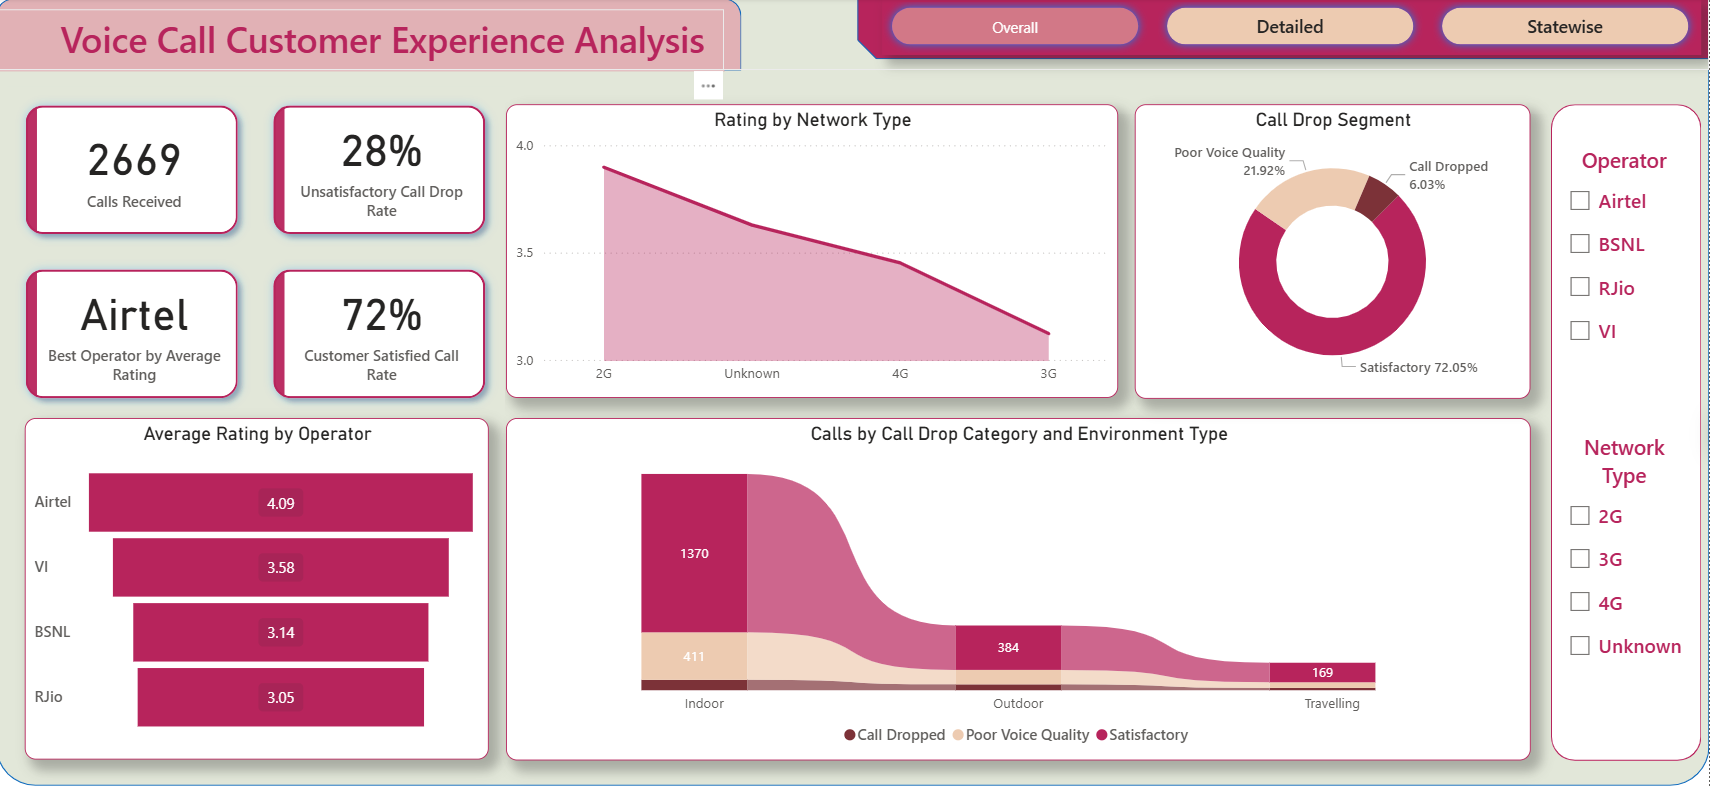

What the dashboard file says about the page in this screenshot:
{"tool":"powerbi","page":{"name":"Overall","canvas":[1550,720],"ordinal":0},"visuals":[{"type":"shape","box":[5,0,1545,710.3],"z":0,"group":"g1"},{"type":"group","id":"g1","title":"Group 3","box":[5,0,1545,710.3],"z":1000},{"type":"lineChart","title":"Rating by Network Type","fields":{"Y":["Final.Average Rating"],"Category":["Final.network_type"]},"box":[464.7,95.7,552,264.7],"z":1000,"group":"g1"},{"type":"cardVisual","fields":{"Data":["Final.NumberOfCalls","Final.Call drop percent","Final.BestOperator_AverageRating","Final.SatisfactoryCalls"]},"box":[15.5,80.3,449.2,298.5],"z":2000,"group":"g1"},{"type":"group","id":"g2","title":"Group 2","box":[1406.9,95.8,135.6,592.1],"z":2000},{"type":"shape","box":[4.5,0,672.2,65.4],"z":2250,"group":"g4"},{"type":"group","id":"g3","title":"Group 1","box":[4.5,0,1545.3,65.4],"z":2500,"group":"g4"},{"type":"group","id":"g4","title":"Group 4","box":[4.5,0,1545.3,65.4],"z":2501},{"type":"textbox","box":[4.5,9.7,657.1,55.6],"z":2501,"group":"g3"},{"type":"shape","box":[780.8,0,769,55.3],"z":3000,"group":"g3"},{"type":"shape","box":[1406.9,95.8,135.6,592.1],"z":3000,"group":"g2"},{"type":"slicer","title":"Operator","fields":{"Values":["Final.operator"]},"box":[1412,132.7,122.9,193.3],"z":4000,"group":"g2"},{"type":"slicer","title":"Network Type","fields":{"Values":["Final.network_type"]},"box":[1412,392.3,122.9,244.1],"z":5000,"group":"g2"},{"type":"funnel","title":"Average Rating by Operator","fields":{"Category":["Final.operator"],"Y":["Final.Average Rating"]},"box":[31,378.8,418.2,308.4],"z":6000,"group":"g1"},{"type":"ribbonChart","title":"Calls by Call Drop Category and Environment Type","fields":{"Category":["Final.inout_travelling"],"Series":["Final.calldrop_category"],"Y":["CountNonNull(Final.Case)"]},"box":[464.9,378.8,924.3,309],"z":7000,"group":"g1"},{"type":"donutChart","title":"Call Drop Segment","fields":{"Y":["CountNonNull(Final.calldrop_category)"],"Category":["Final.calldrop_category"]},"box":[1032.4,95.7,356.9,265.3],"z":8000,"group":"g1"},{"type":"pageNavigator","box":[803.1,0,738.3,51.1],"z":8001,"group":"g3"}]}

Visuals, with their boxes in screenshot pixels (x1, y1, x2, y2), scaled from the page's 1550x720 canvas onto the 1710x788 screenshot:
shape: {"left": 6, "top": 0, "right": 1709, "bottom": 777}
"Group 3" group: {"left": 6, "top": 0, "right": 1709, "bottom": 777}
"Rating by Network Type" lineChart: {"left": 513, "top": 105, "right": 1122, "bottom": 394}
cardVisual - Final.NumberOfCalls x Final.Call drop percent: {"left": 17, "top": 88, "right": 513, "bottom": 415}
"Group 2" group: {"left": 1552, "top": 105, "right": 1702, "bottom": 753}
shape: {"left": 5, "top": 0, "right": 747, "bottom": 72}
"Group 1" group: {"left": 5, "top": 0, "right": 1709, "bottom": 72}
"Group 4" group: {"left": 5, "top": 0, "right": 1709, "bottom": 72}
textbox: {"left": 5, "top": 11, "right": 730, "bottom": 71}
shape: {"left": 861, "top": 0, "right": 1709, "bottom": 61}
shape: {"left": 1552, "top": 105, "right": 1702, "bottom": 753}
"Operator" slicer: {"left": 1558, "top": 145, "right": 1693, "bottom": 357}
"Network Type" slicer: {"left": 1558, "top": 429, "right": 1693, "bottom": 697}
"Average Rating by Operator" funnel: {"left": 34, "top": 415, "right": 496, "bottom": 752}
"Calls by Call Drop Category and Environment Type" ribbonChart: {"left": 513, "top": 415, "right": 1533, "bottom": 753}
"Call Drop Segment" donutChart: {"left": 1139, "top": 105, "right": 1533, "bottom": 395}
pageNavigator: {"left": 886, "top": 0, "right": 1701, "bottom": 56}
